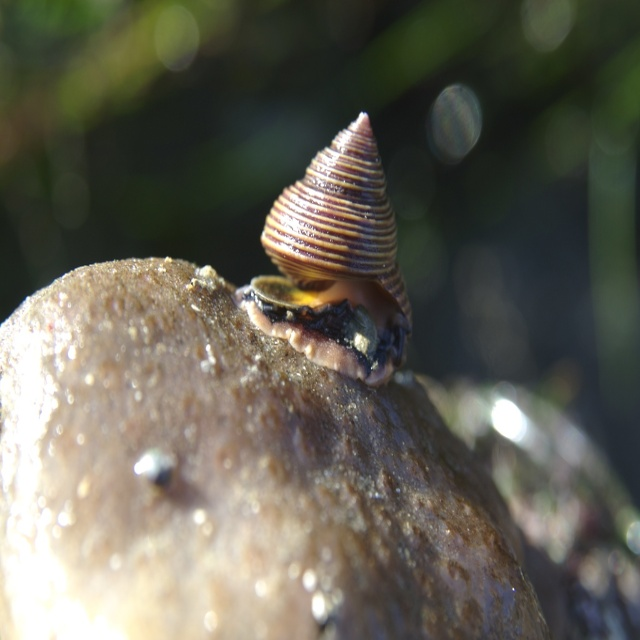Snail: (233, 112, 411, 385)
